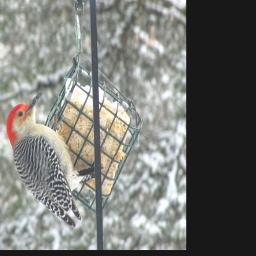Woodpecker: (6, 95, 99, 227)
